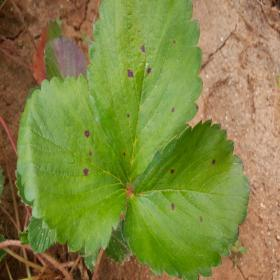Leaf Spot: (86, 0, 203, 192), (15, 74, 129, 257), (121, 119, 251, 279)
